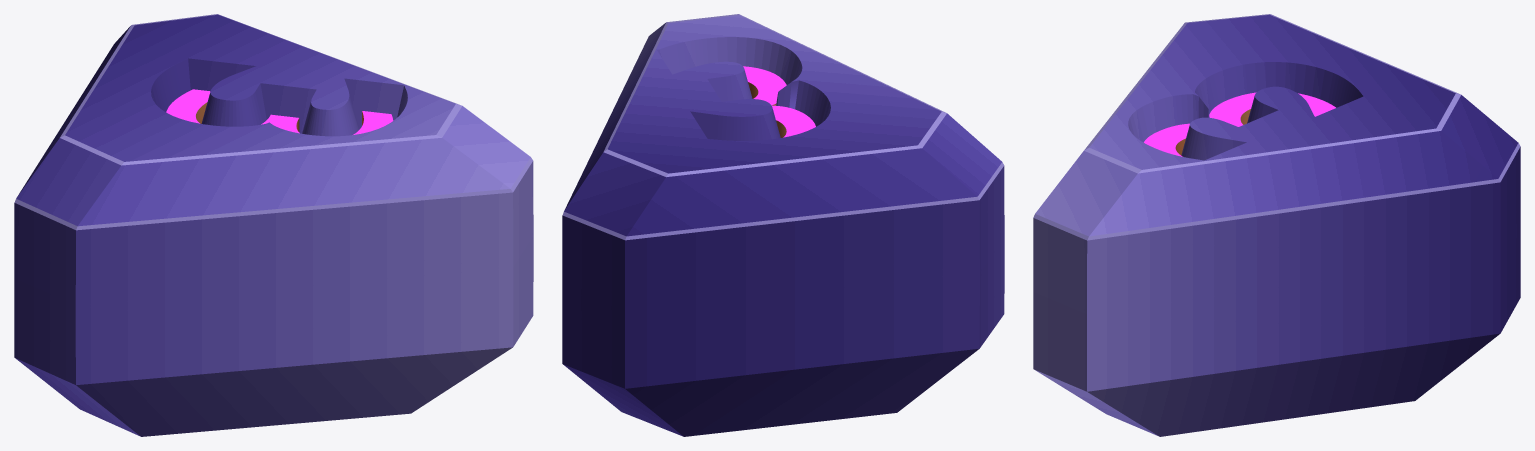
Rendered from Thermal Haul_Item_Crystal3.glb.
The picture shows the model from 3 angles, left to right: view 1: azimuth 30°, elevation 25°; view 2: azimuth 150°, elevation 25°; view 3: azimuth 270°, elevation 25°; orthographic projection. The views are drawn at different scales.
Parts seen in each view (by area): view 1: Cube; view 2: Cube; view 3: Cube.
Part boxes in pixels (left/top/right/bottom): Cube: left=14, top=14, right=533, bottom=436; Cube: left=562, top=14, right=1004, bottom=436; Cube: left=1033, top=14, right=1520, bottom=436.
Bounding box in the file's own units: 0.7565 × 0.4696 × 0.7565.
Materials: 2 (1 with a texture image).
